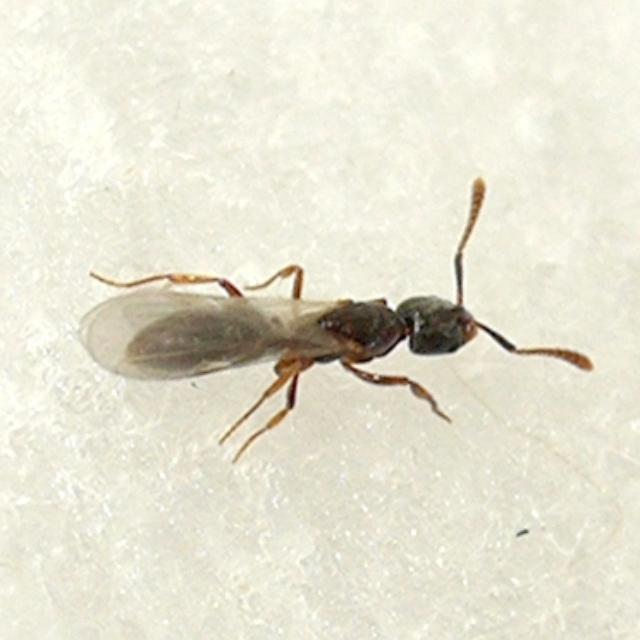Ponera: (94, 206, 498, 412)
